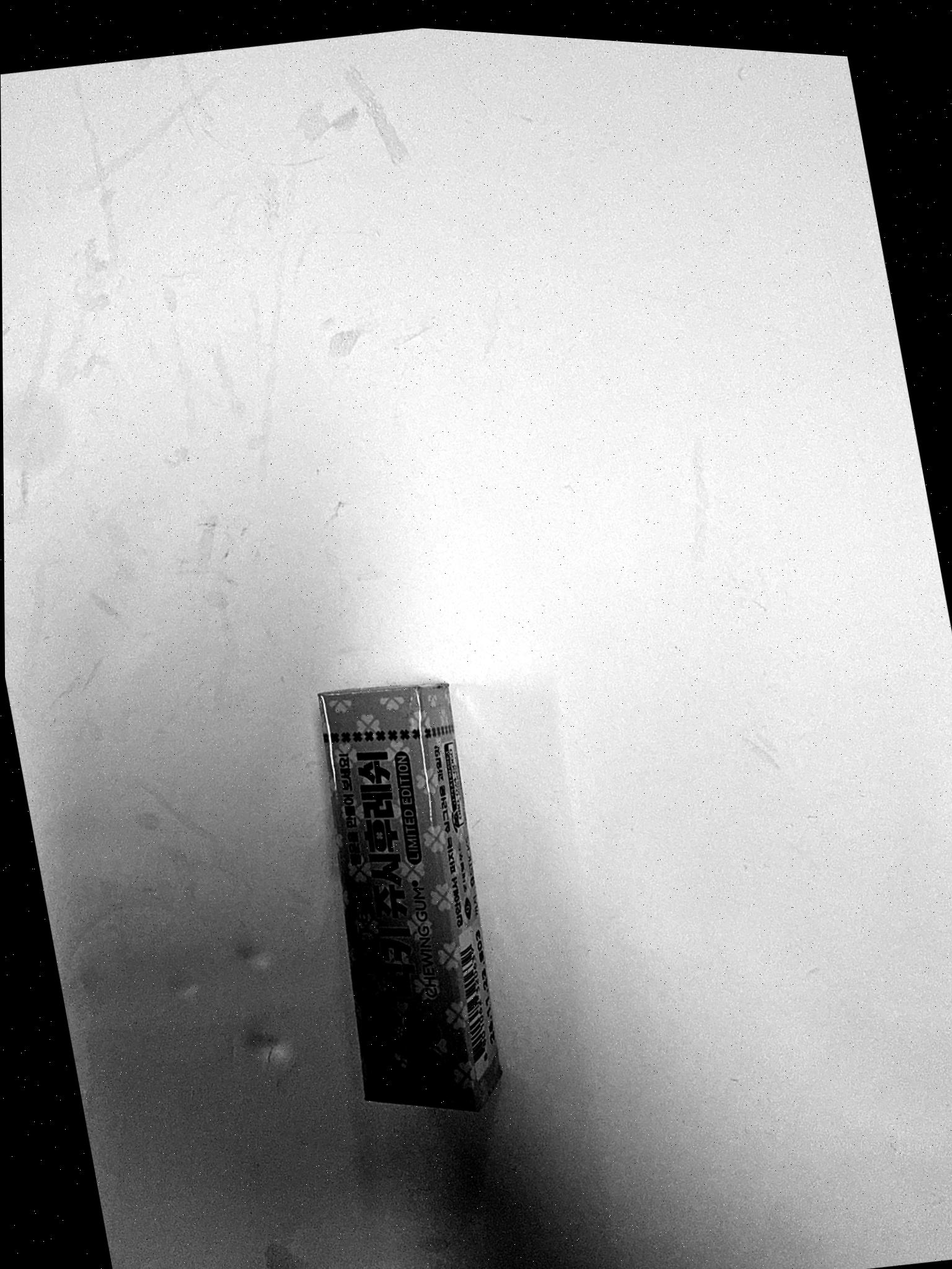gum_yellow: (316, 683, 500, 1111)
